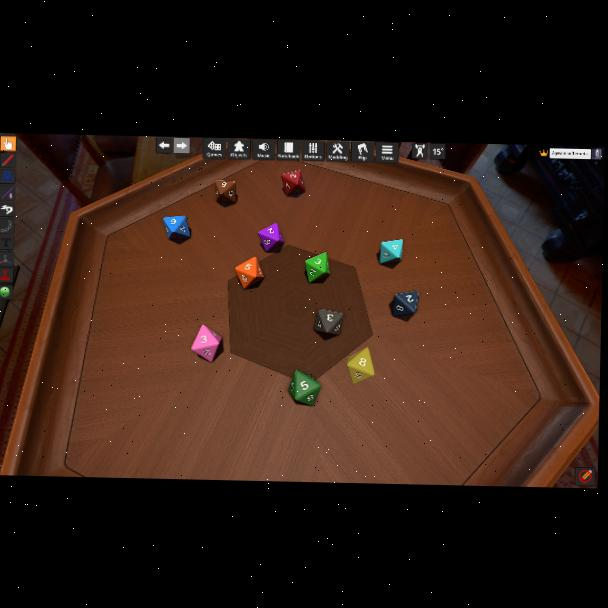d8: (190, 324, 221, 362), (288, 371, 321, 405), (234, 257, 264, 290), (347, 348, 373, 384), (258, 222, 284, 252), (314, 308, 342, 335), (305, 252, 330, 282), (163, 214, 191, 240), (392, 290, 417, 316), (281, 170, 305, 197), (379, 239, 402, 265), (215, 180, 237, 204)
